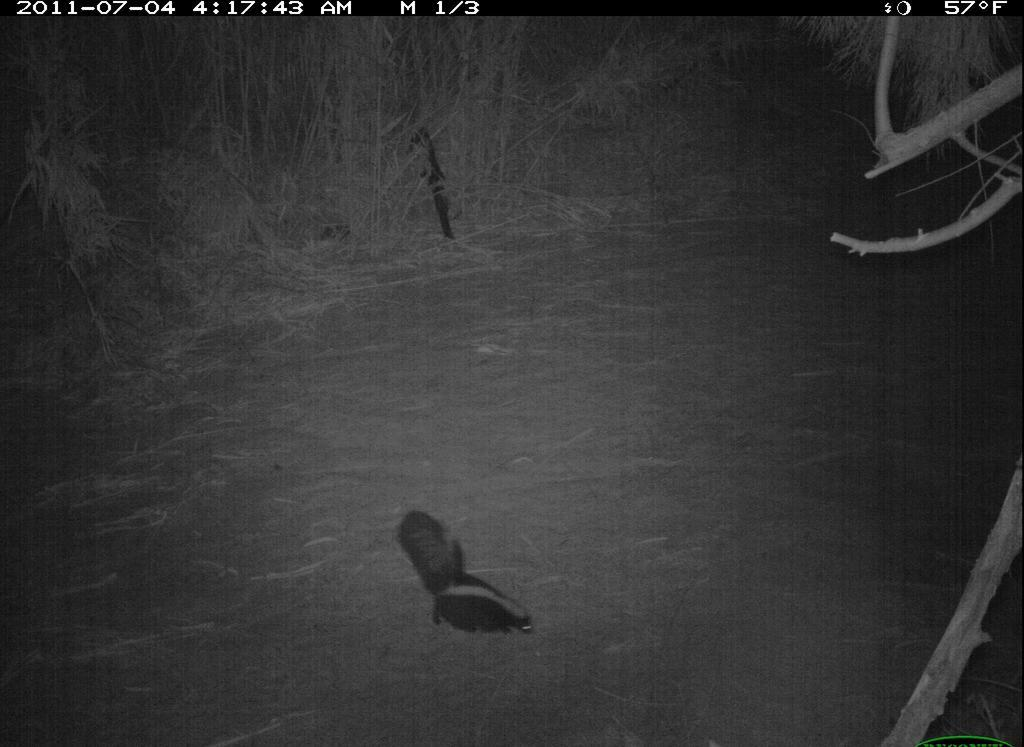skunk: (391, 504, 543, 652)
